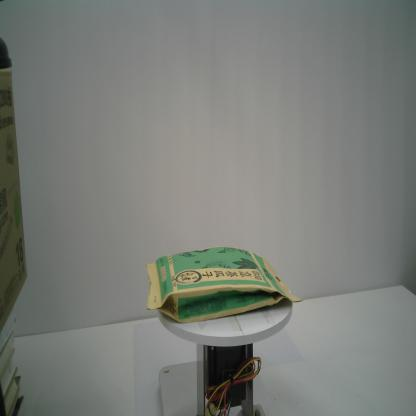Dried Food: (144, 243, 304, 324)
